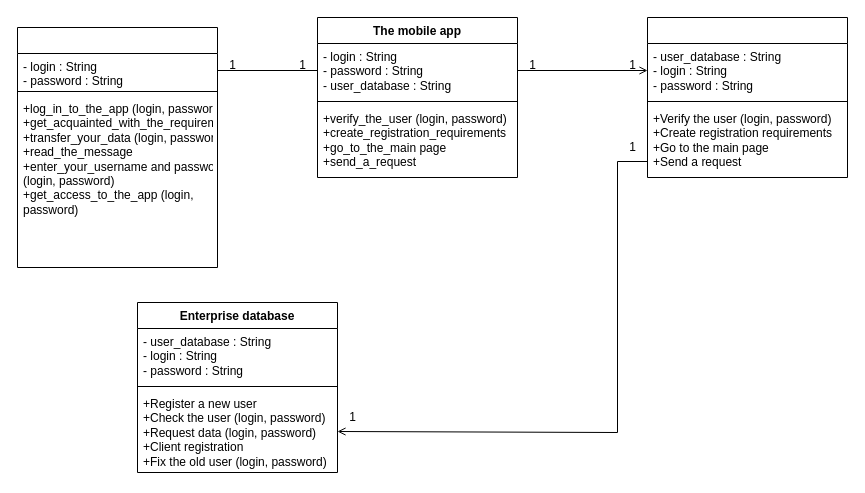
Image size: 865x493. Some labels were removed from this diagram. Each missing label, with the box of its shape:
Buyer: (16, 26, 218, 268)
Car Dealership Server: (646, 16, 848, 178)
